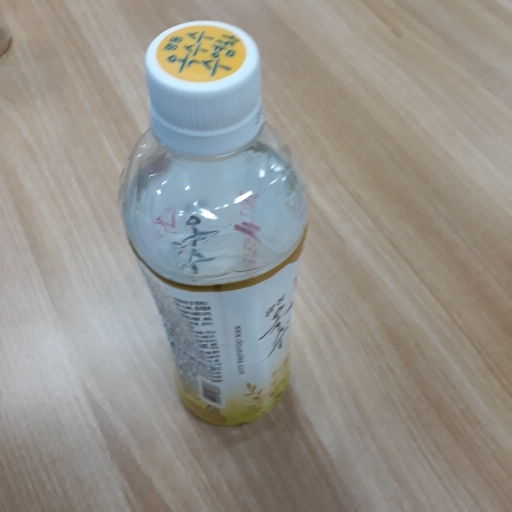Plastic_0: (115, 21, 311, 437)
